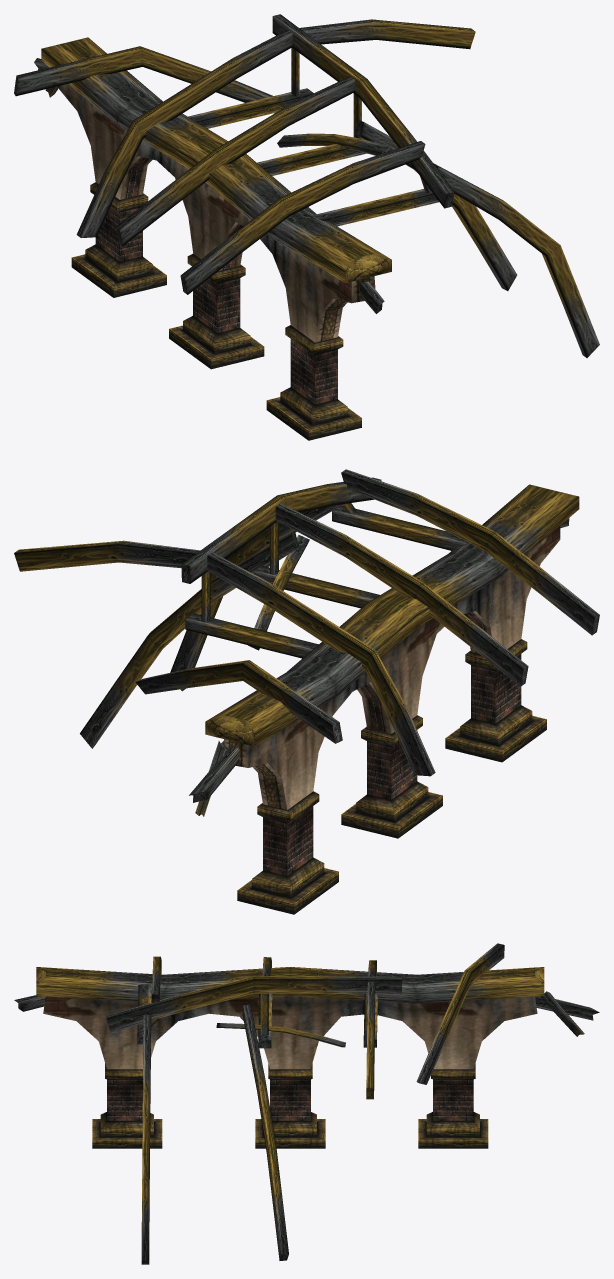
Rendered from CB_ARENA_BUILDING02.fbx.
3 views of the same model, one above another, from view 1: azimuth 30°, elevation 25°; view 2: azimuth 150°, elevation 25°; view 3: azimuth 270°, elevation 25° (orthographic). The views are drawn at different scales.
Visible parts, largest first — view 1: CB_ARENA_BUILDING02; view 2: CB_ARENA_BUILDING02; view 3: CB_ARENA_BUILDING02.
Boxes of the visible parts, <box> form: CB_ARENA_BUILDING02: <box>14,14,599,440</box>; CB_ARENA_BUILDING02: <box>14,469,599,914</box>; CB_ARENA_BUILDING02: <box>14,943,599,1264</box>.
Bounding box in the file's own units: 197796 × 120817 × 287446.
Materials: 7 (7 with a texture image).
